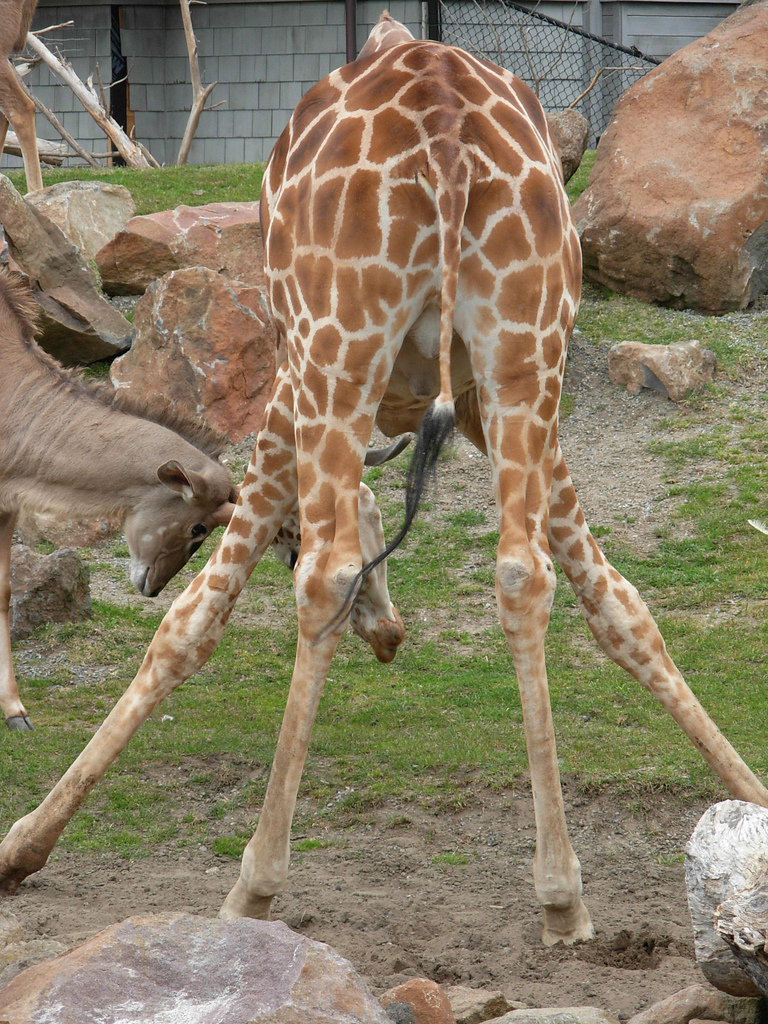giraffe: (102, 37, 710, 945)
